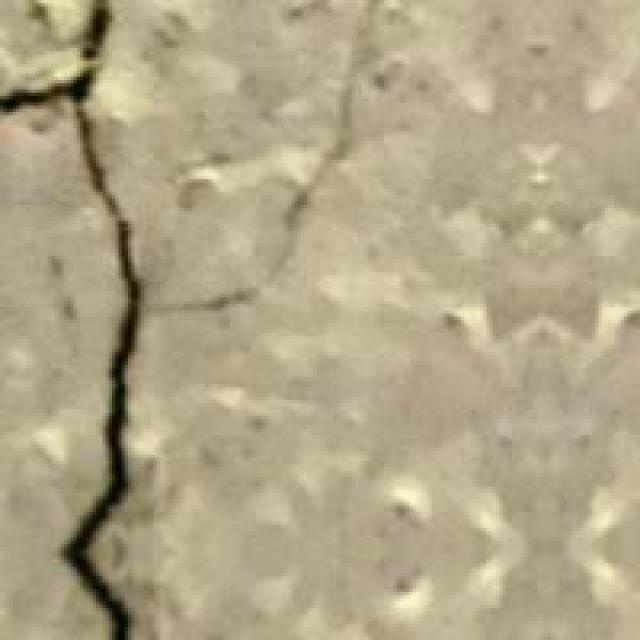Crack: (0, 0, 179, 637)
